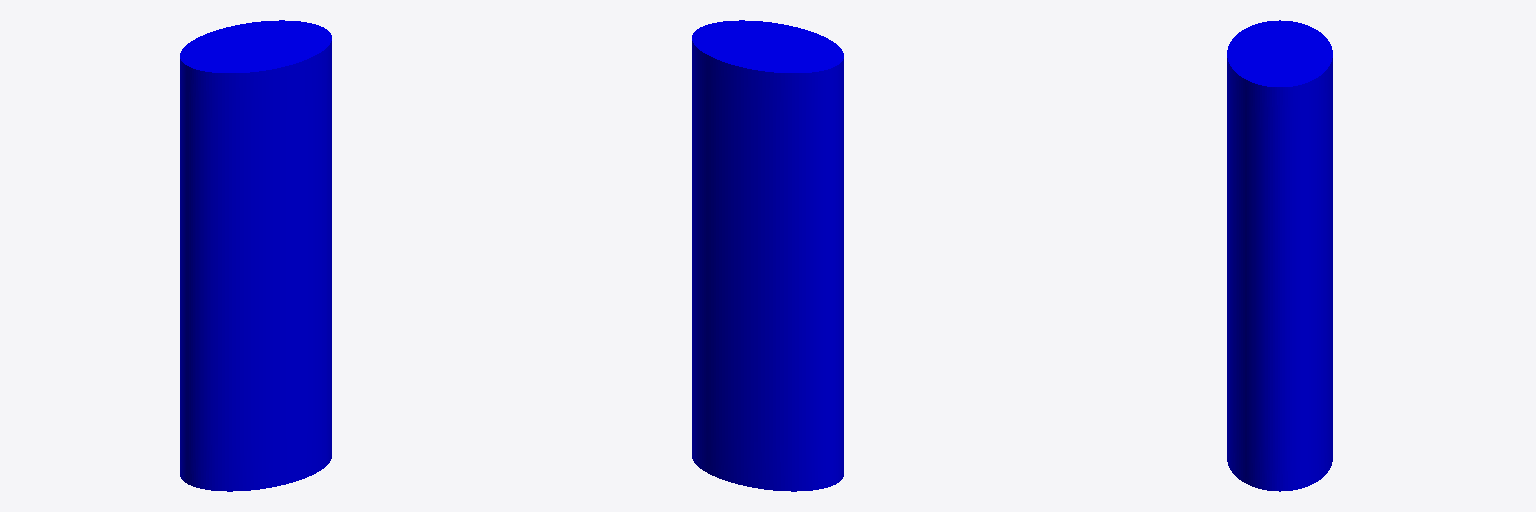
The robot description file, URDF, robot "board1_block16":
<?xml version="1.0"?>
<robot name="board1_block16">
    <link name="board1_block16">
        <visual>
            <origin xyz="0 0 0 " rpy=" 0 0 0"/>
            <geometry>
                <mesh filename="../meshes/SIMO_Board1_Block16.stl" scale="0.001 0.001 0.001"/>
            </geometry>
            <material name="red">
                <color rgba="0.0 0.0 1.0 1.0"/>
            </material>
        </visual>
        <collision>
            <origin xyz="0 0 0" rpy="0 0 0"/>
            <geometry>
                <mesh filename="../meshes/SIMO_Board1_Block16.stl" scale="0.001 0.001 0.001"/>
            </geometry>
        </collision>
    </link>
</robot>

--- Render facts (derived) ---
The picture shows the robot from 3 angles, left to right: view 1: azimuth 30°, elevation 25°; view 2: azimuth 150°, elevation 25°; view 3: azimuth 270°, elevation 25°; orthographic projection.
Model board1_block16 with 1 links and 0 joints (none), rooted at board1_block16, posed all joints at 0.
Visible links, largest first — view 1: board1_block16; view 2: board1_block16; view 3: board1_block16.
Boxes of the visible links, <box> form: board1_block16: <box>180,20,331,491</box>; board1_block16: <box>692,20,843,491</box>; board1_block16: <box>1227,20,1332,491</box>.
Bounding box of the posed robot: 0.0534 × 0.0356 × 0.15 m (x, y, z).
1 mesh visuals loaded from 1 distinct referenced files (1 ASCII STL).
